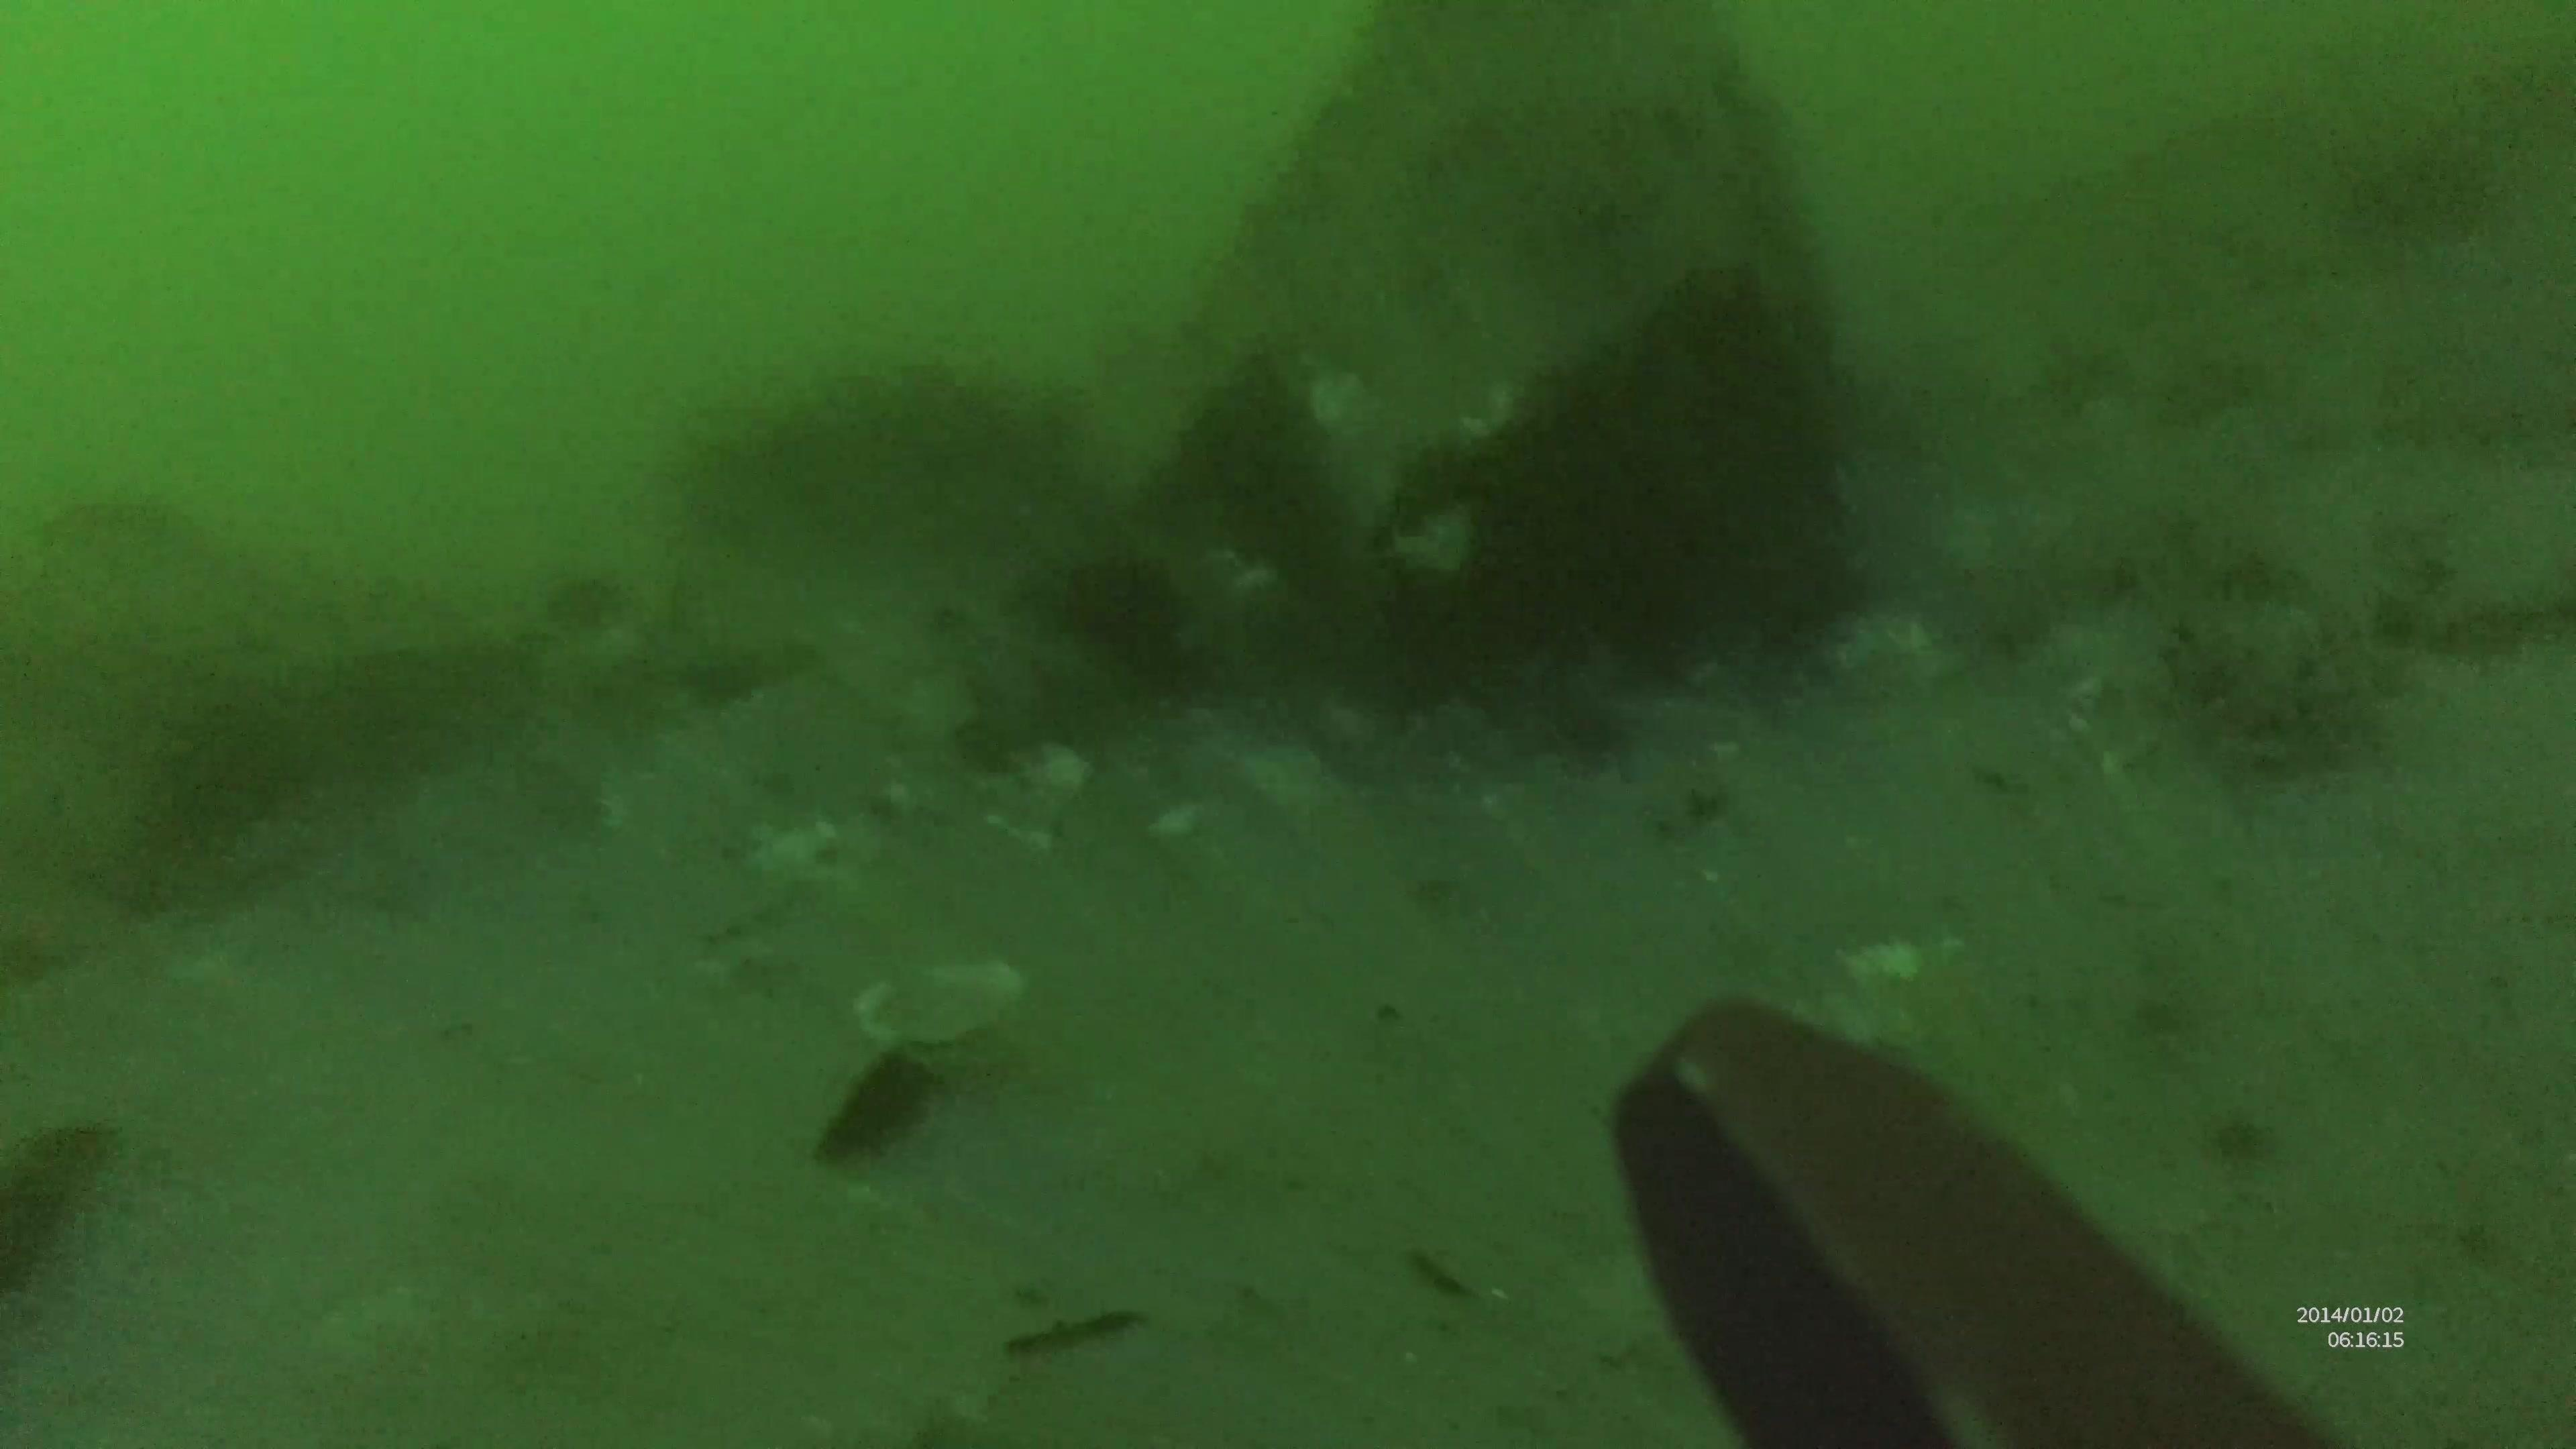echinus: (1056, 548, 1219, 702)
